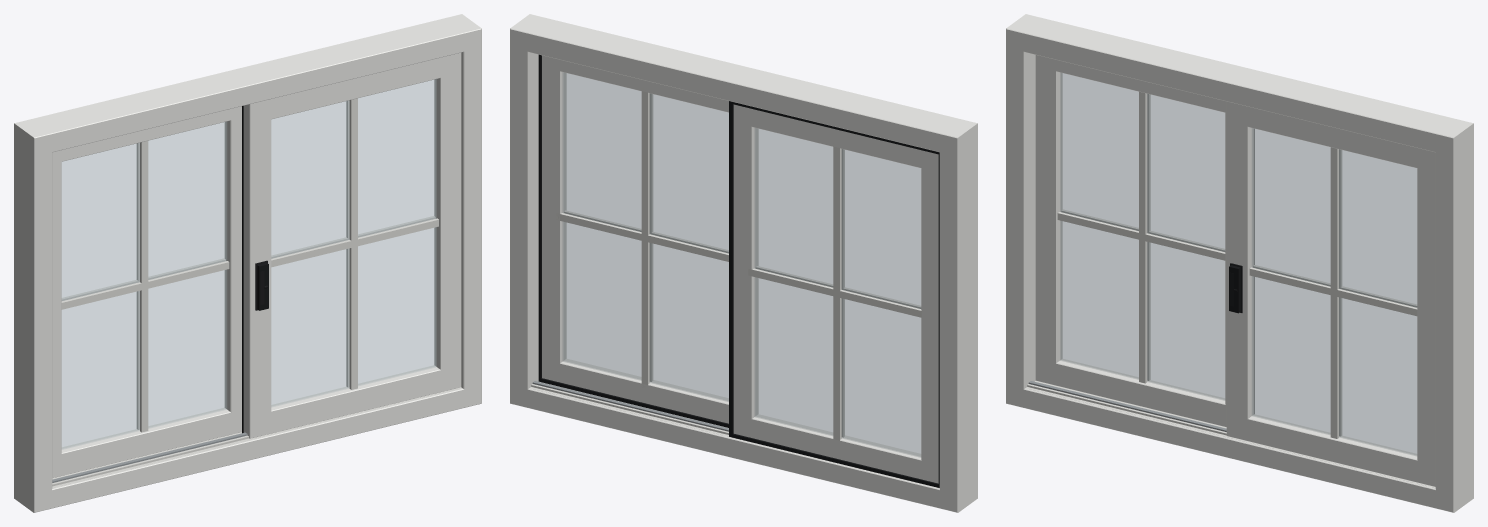
Rendered from sliding-lattice.glb.
The picture shows the model from 3 angles, left to right: view 1: azimuth 30°, elevation 25°; view 2: azimuth 150°, elevation 25°; view 3: azimuth 330°, elevation 25°; orthographic projection.
Parts seen in each view (by area): view 1: frame, glass_operable, glass_fixed, panel_operable, panel_fixed, panel_operable_grid_bar_v_int, panel_fixed_grid_bar_v_int, panel_fixed_grid_bar_h_int, panel_operable_grid_bar_h_int, track_sill, panel_operable_grid_bar_v_ext, panel_fixed_grid_bar_v_ext (+5 smaller); view 2: frame, glass_fixed, glass_operable, panel_fixed, panel_operable, panel_fixed_weatherstrip, panel_operable_grid_bar_v_ext, panel_fixed_grid_bar_v_ext, panel_operable_weatherstrip, panel_fixed_grid_bar_h_ext, panel_operable_grid_bar_h_ext, panel_operable_grid_bar_v_int (+6 smaller); view 3: frame, glass_fixed, glass_operable, panel_operable, panel_fixed, panel_operable_grid_bar_v_int, panel_fixed_grid_bar_v_int, panel_fixed_grid_bar_h_int, panel_operable_grid_bar_h_int, track_sill, panel_operable_grid_bar_v_ext, panel_fixed_grid_bar_v_ext (+4 smaller).
Part boxes in pixels (x1,y1,x2,y2): frame: (14, 14, 481, 512); glass_operable: (271, 79, 436, 406); glass_fixed: (61, 122, 226, 449); panel_operable: (243, 52, 461, 438); panel_fixed: (52, 106, 241, 477); panel_operable_grid_bar_v_int: (349, 98, 357, 389); panel_fixed_grid_bar_v_int: (140, 141, 148, 432); panel_fixed_grid_bar_h_int: (61, 261, 229, 309); panel_operable_grid_bar_h_int: (271, 218, 438, 267); track_sill: (52, 387, 461, 488); panel_operable_grid_bar_v_ext: (346, 100, 349, 387); panel_fixed_grid_bar_v_ext: (136, 143, 139, 429); frame: (510, 14, 977, 512); glass_fixed: (754, 128, 921, 457); glass_operable: (562, 72, 728, 401); panel_fixed: (733, 104, 938, 483); panel_operable: (542, 55, 728, 423); panel_fixed_weatherstrip: (729, 101, 939, 487); panel_operable_grid_bar_v_ext: (641, 90, 649, 387); panel_fixed_grid_bar_v_ext: (833, 143, 841, 440); panel_operable_weatherstrip: (538, 54, 728, 427); panel_fixed_grid_bar_h_ext: (748, 268, 921, 317); panel_operable_grid_bar_h_ext: (556, 213, 728, 261); panel_operable_grid_bar_v_int: (649, 93, 653, 381); frame: (1006, 14, 1473, 512); glass_fixed: (1060, 73, 1225, 400); glass_operable: (1252, 128, 1417, 455); panel_operable: (1226, 101, 1435, 486); panel_fixed: (1035, 55, 1226, 426); panel_operable_grid_bar_v_int: (1330, 147, 1338, 438); panel_fixed_grid_bar_v_int: (1139, 91, 1147, 383); panel_fixed_grid_bar_h_int: (1057, 212, 1225, 260); panel_operable_grid_bar_h_int: (1249, 267, 1417, 316); track_sill: (1026, 381, 1435, 488); panel_operable_grid_bar_v_ext: (1339, 149, 1342, 436); panel_fixed_grid_bar_v_ext: (1147, 94, 1150, 380).
Bounding box in the file's own units: 1.5 × 1.2 × 0.1255.
